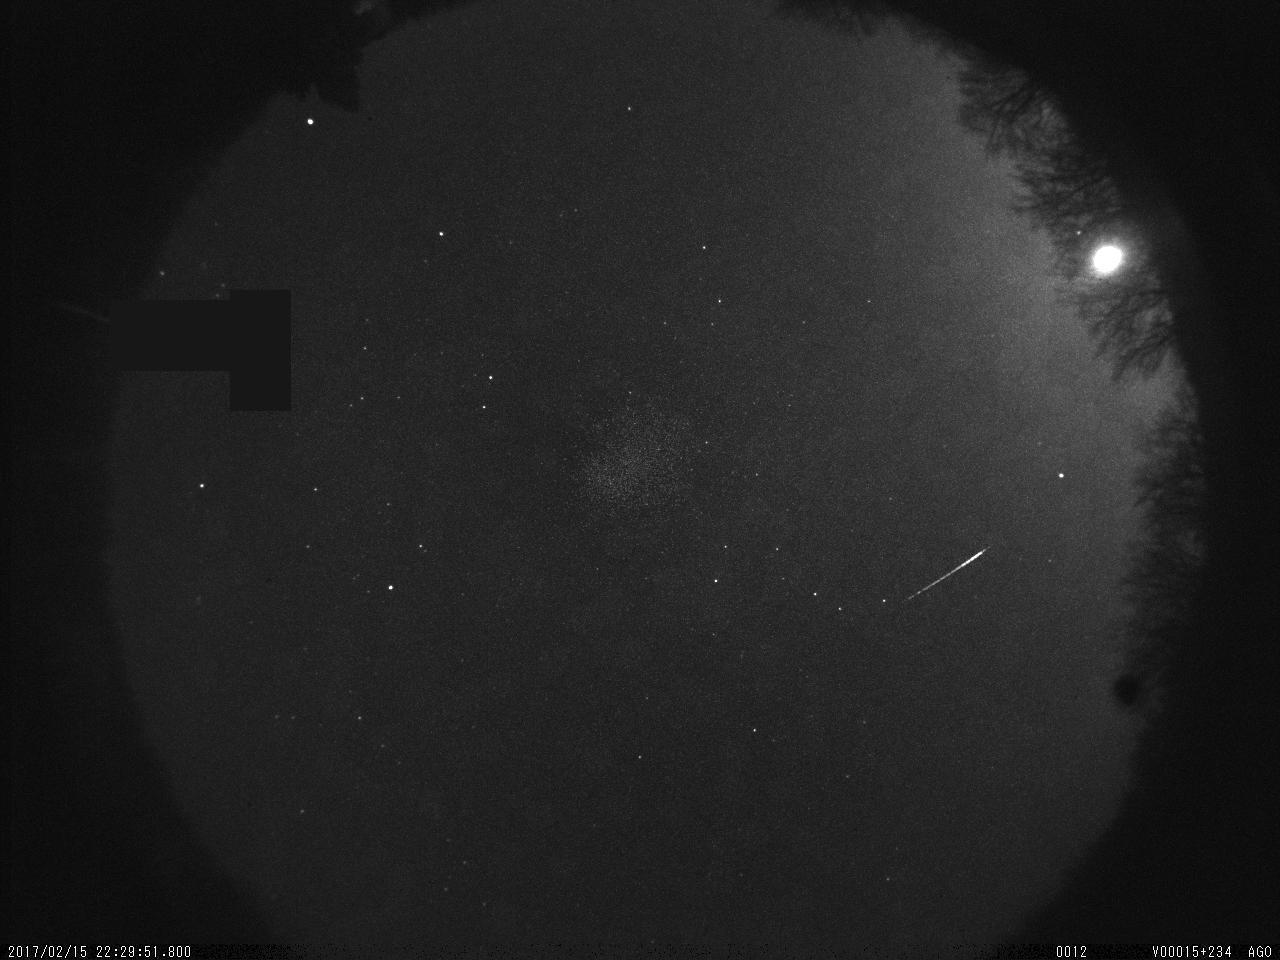Meteor: (900, 544, 1000, 608)
